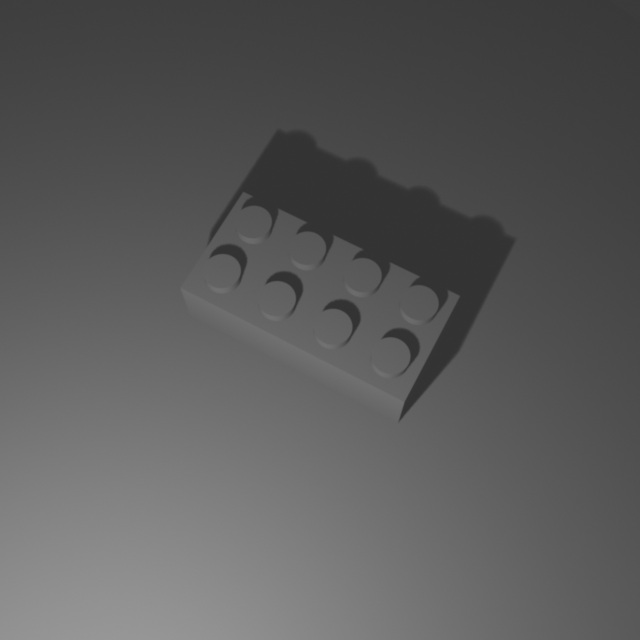lego_2x4: (179, 186, 462, 423)
